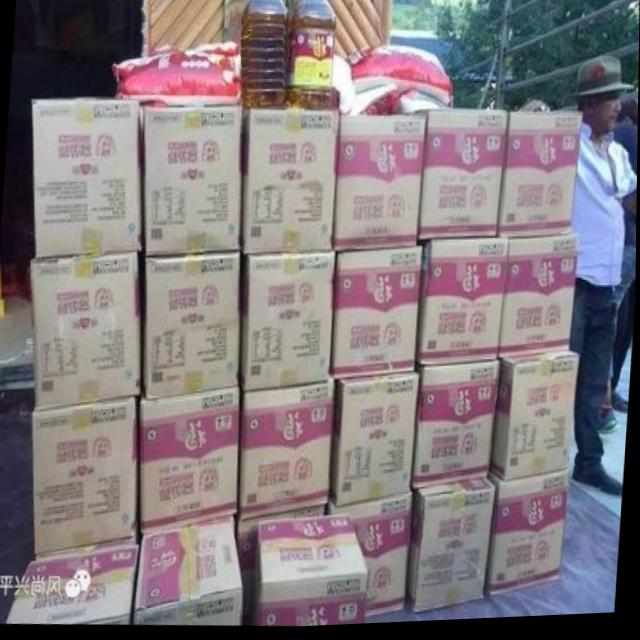box: (33, 101, 143, 259), (33, 257, 143, 409), (37, 399, 138, 554), (142, 103, 243, 257), (241, 112, 341, 259), (138, 387, 242, 527), (144, 253, 241, 398), (241, 255, 337, 395), (251, 521, 370, 628), (240, 383, 331, 519), (412, 114, 507, 244), (328, 372, 420, 506), (406, 478, 494, 617), (489, 348, 578, 484), (332, 117, 420, 253), (416, 240, 507, 369), (331, 248, 419, 380), (411, 360, 499, 492), (9, 534, 141, 622), (134, 520, 244, 625), (237, 505, 329, 624), (329, 492, 413, 622), (499, 118, 583, 236), (499, 230, 577, 356), (490, 475, 569, 599)
